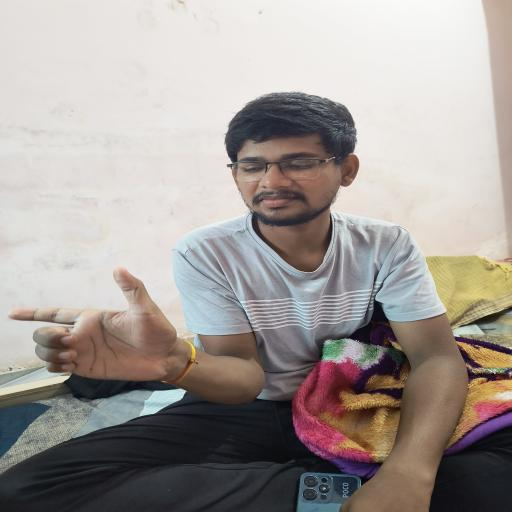Sorry: (0, 260, 186, 398)
